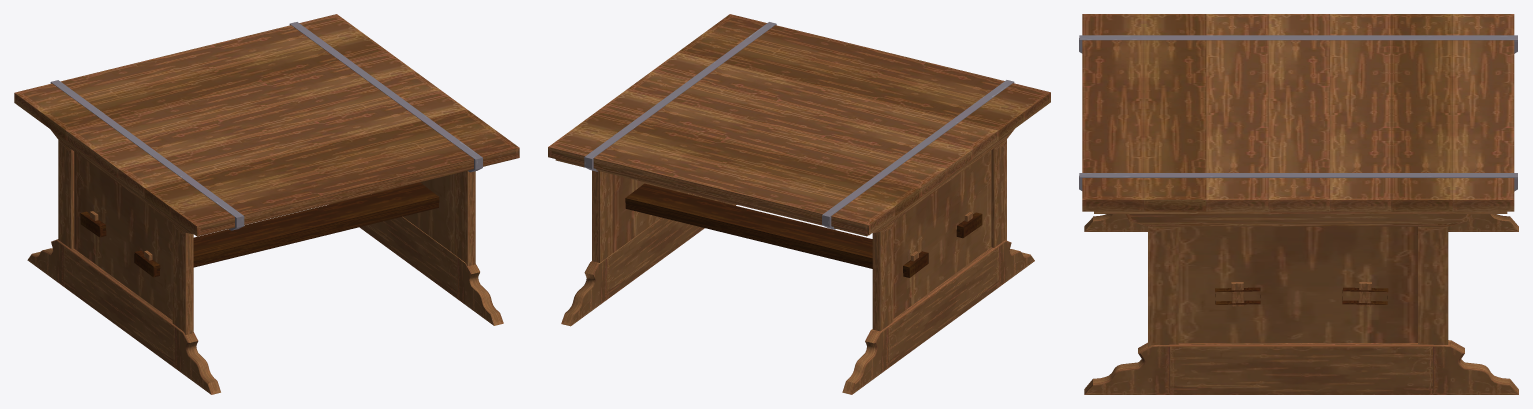
The model's file is Cruce_Table.glb.
The picture shows the model from 3 angles, left to right: view 1: azimuth 30°, elevation 25°; view 2: azimuth 150°, elevation 25°; view 3: azimuth 270°, elevation 25°; orthographic projection. The views are drawn at different scales.
Parts seen in each view (by area): view 1: Cruce_Table; view 2: Cruce_Table; view 3: Cruce_Table.
Part boxes in pixels (bbox=[...]): Cruce_Table: bbox=[14, 14, 519, 394]; Cruce_Table: bbox=[548, 14, 1050, 394]; Cruce_Table: bbox=[1079, 14, 1518, 394].
Size of the model in its own units: 1.6 by 0.82 by 1.6.
Materials: 2 (2 with a texture image).
